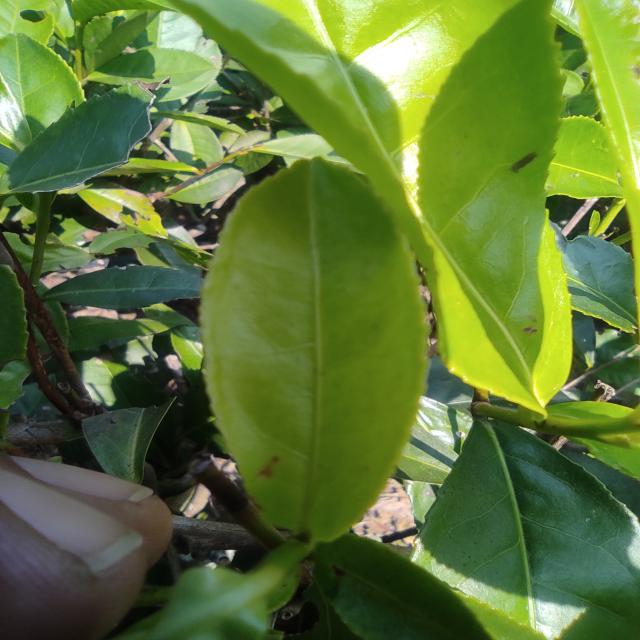Category C 4-7 days: (162, 121, 461, 563)
